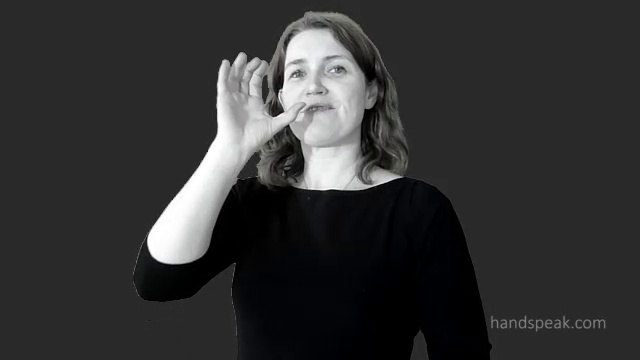drink: (210, 50, 307, 157)
